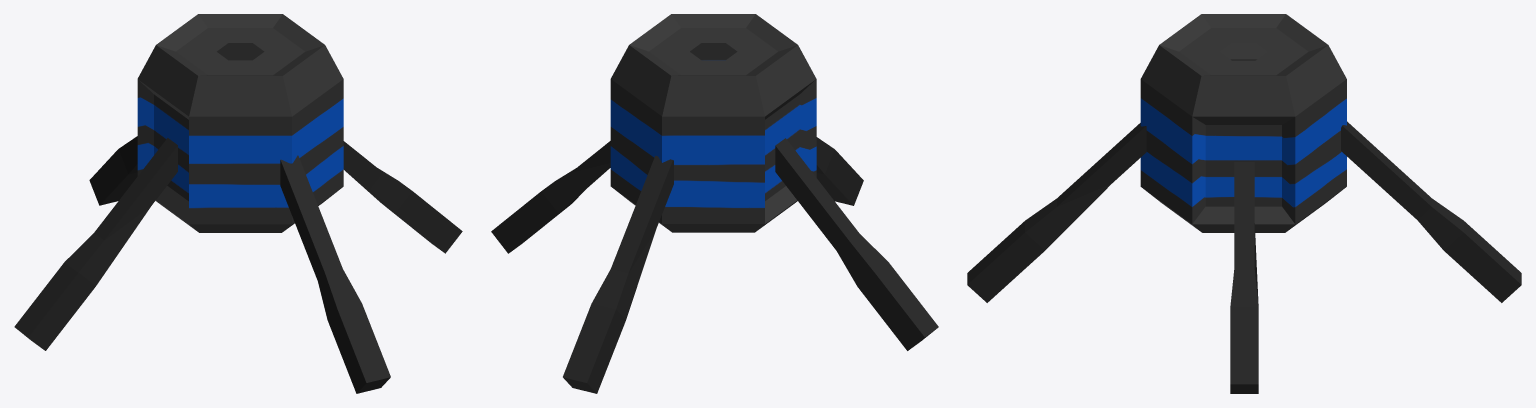
File: MDDBase.glb
3 renders of one model, left to right at view 1: azimuth 30°, elevation 25°; view 2: azimuth 150°, elevation 25°; view 3: azimuth 270°, elevation 25°, orthographic.
Visible parts, largest first — view 1: Cylinder, Cube.003, Cube.001, Cube.002, Cube; view 2: Cylinder, Cube.003, Cube, Cube.002, Cube.001; view 3: Cylinder, Cube.001, Cube, Cube.002.
Part boxes in pixels (x1,y1,x2,y2): Cylinder: [137, 14, 343, 232]; Cube.003: [14, 138, 177, 350]; Cube.001: [280, 155, 390, 393]; Cube.002: [343, 141, 462, 253]; Cube: [89, 136, 137, 205]; Cylinder: [610, 14, 816, 232]; Cube.003: [775, 138, 938, 350]; Cube: [563, 155, 673, 393]; Cube.002: [491, 141, 610, 253]; Cube.001: [816, 137, 863, 205]; Cylinder: [1140, 14, 1346, 232]; Cube.001: [967, 123, 1146, 302]; Cube: [1341, 121, 1521, 302]; Cube.002: [1230, 162, 1258, 393].
Size of the model in its own units: 4.87 by 2.7 by 5.38.
Materials: 5 (1 with a texture image).
